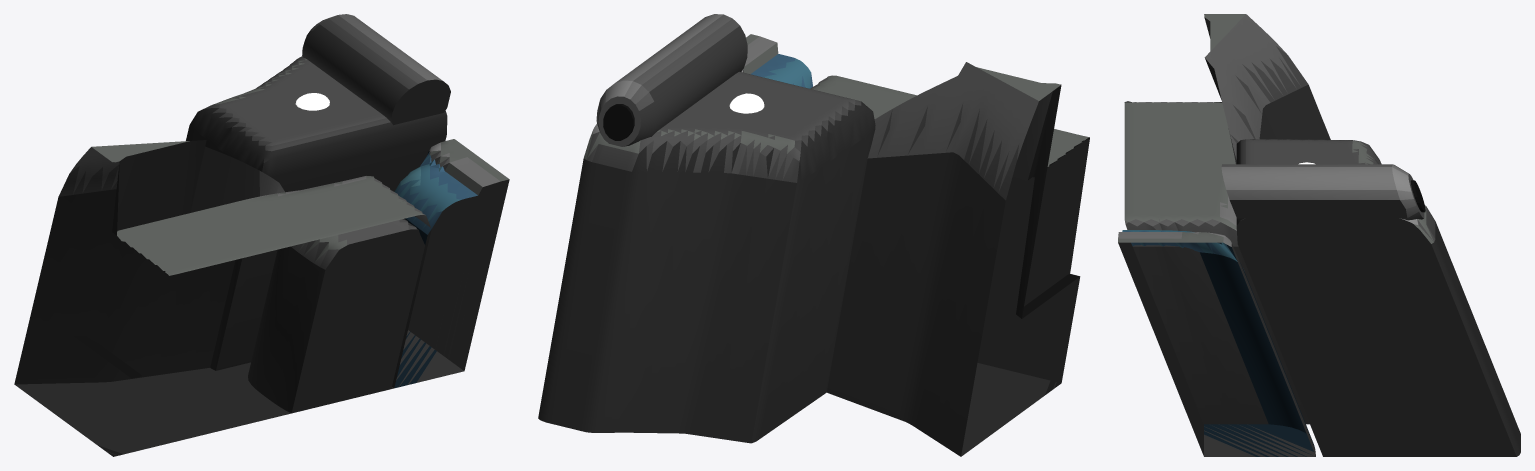
The model's file is fleet_walker_11.glb.
The picture shows the model from 3 angles, left to right: view 1: azimuth 30°, elevation 25°; view 2: azimuth 150°, elevation 25°; view 3: azimuth 270°, elevation 25°; orthographic projection. The views are drawn at different scales.
Visible parts, largest first — view 1: fleet_walker_11; view 2: fleet_walker_11; view 3: fleet_walker_11.
Part boxes in pixels (bbox=[...]): fleet_walker_11: bbox=[14, 14, 509, 456]; fleet_walker_11: bbox=[538, 14, 1089, 456]; fleet_walker_11: bbox=[1118, 14, 1520, 456].
Size of the model in its own units: 24 by 19.2 by 25.05.
